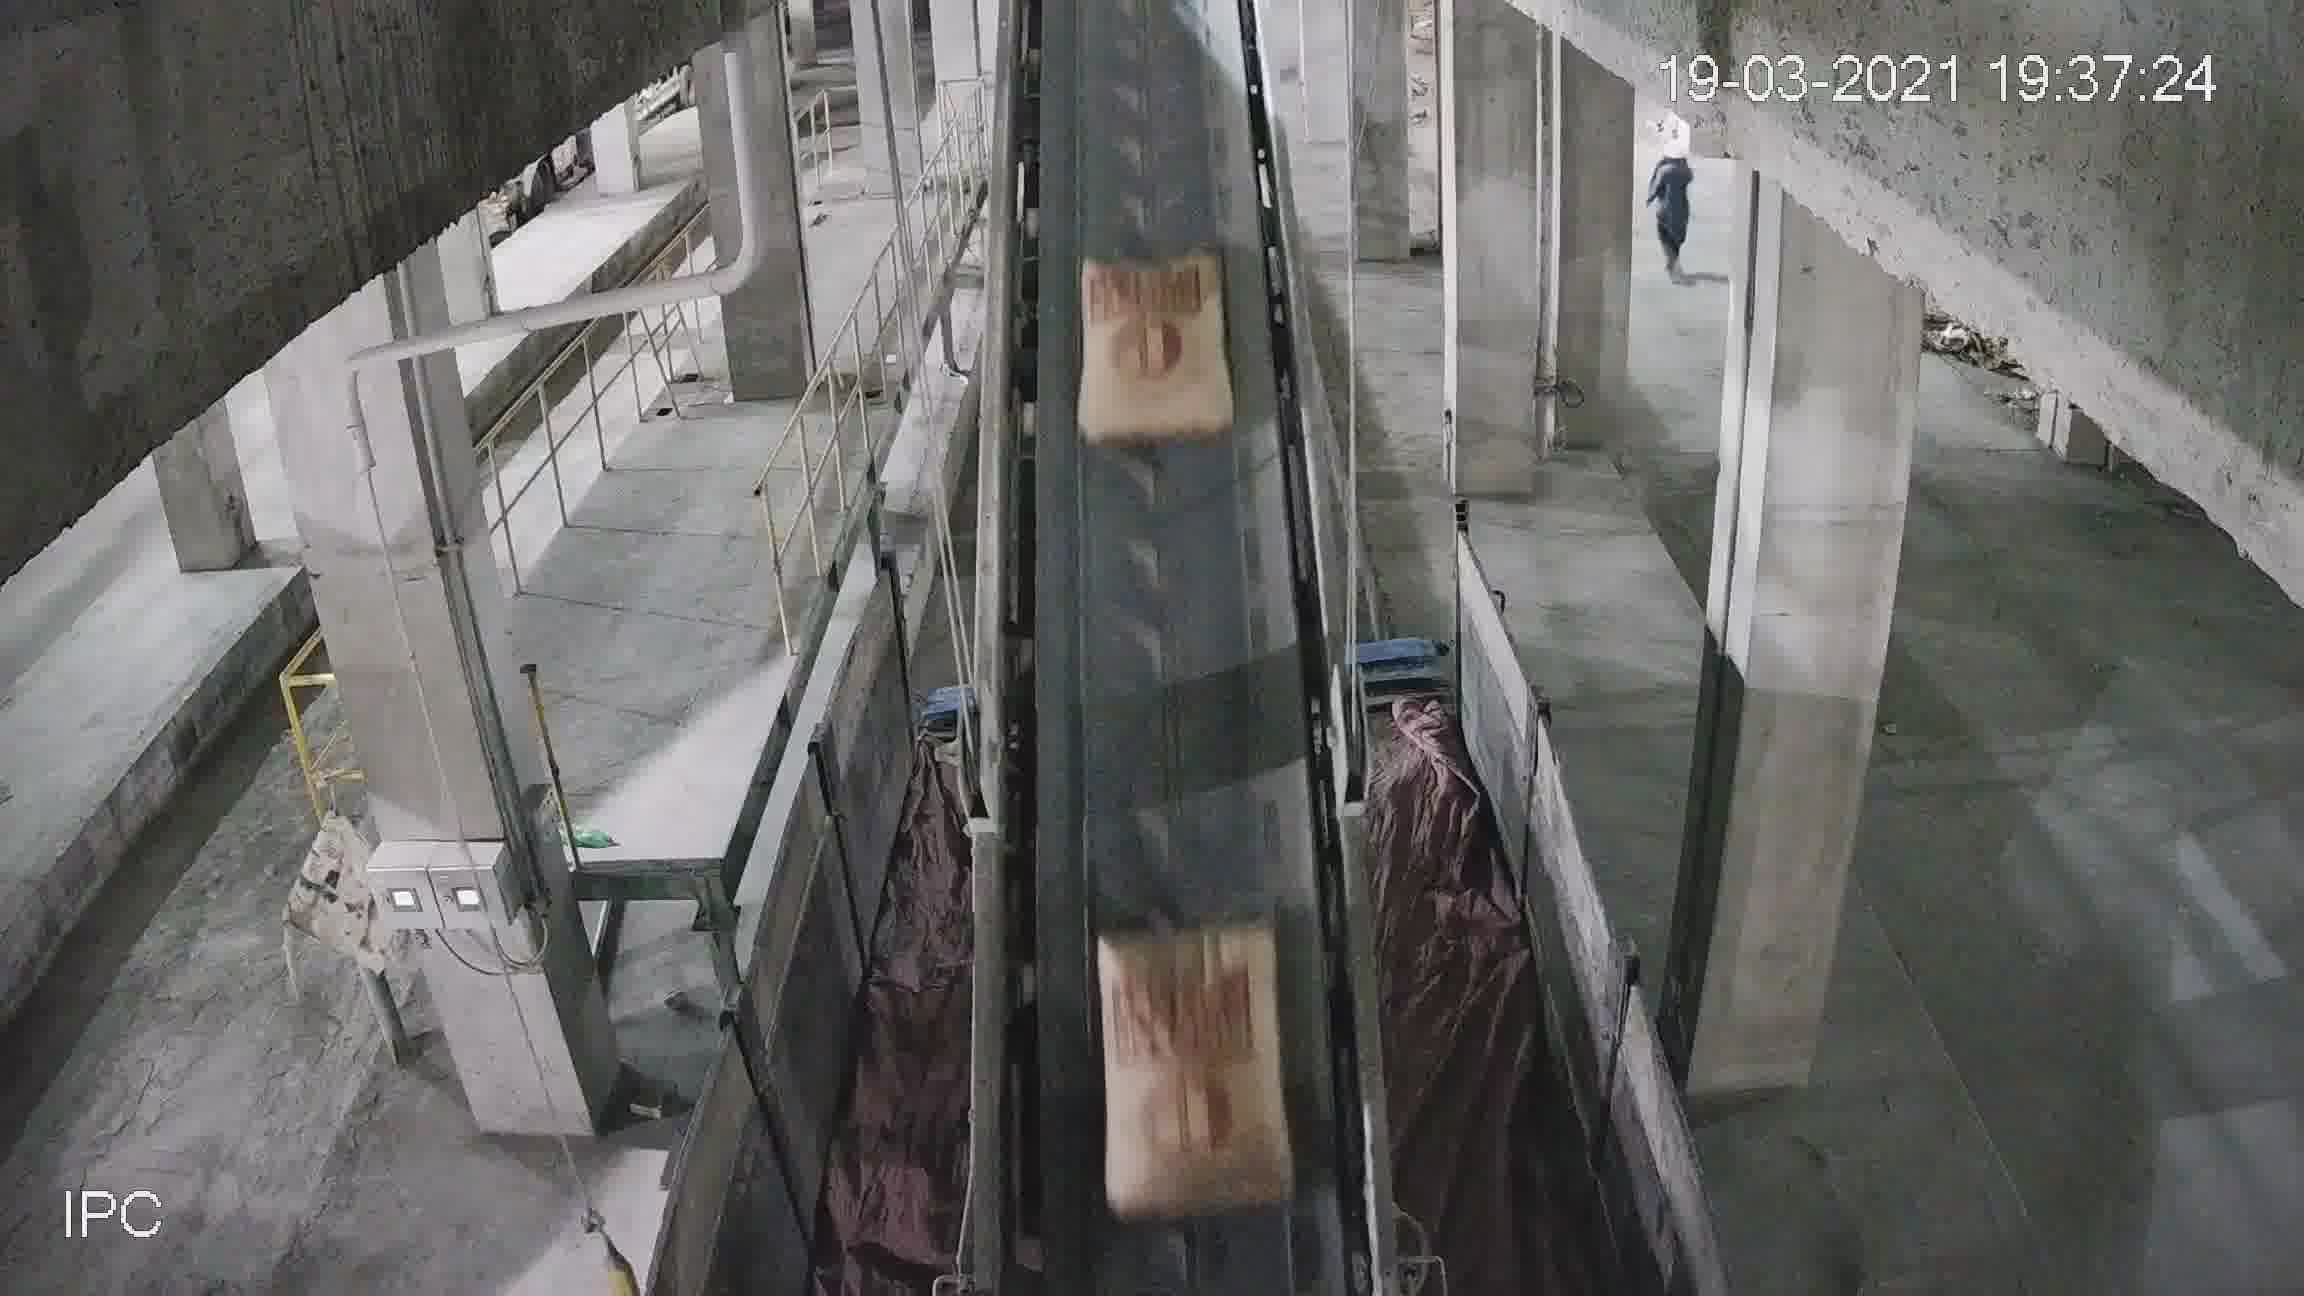bag: (1092, 926, 1287, 1203), (1079, 260, 1225, 445)
belt: (972, 25, 1358, 1173)
